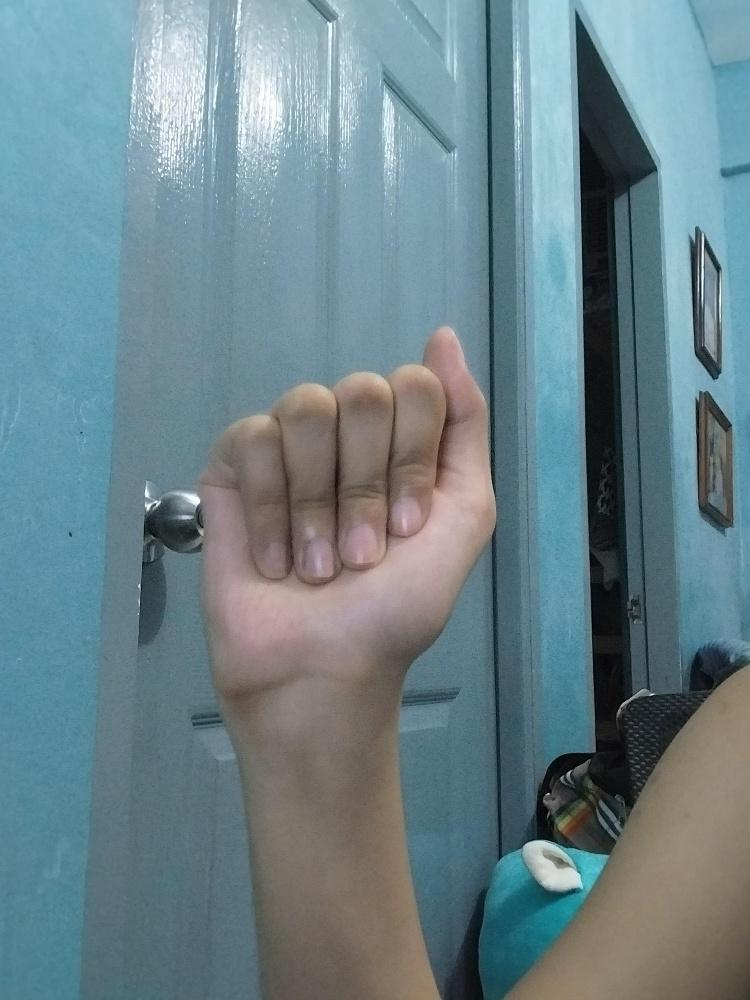a: (200, 323, 502, 674)
